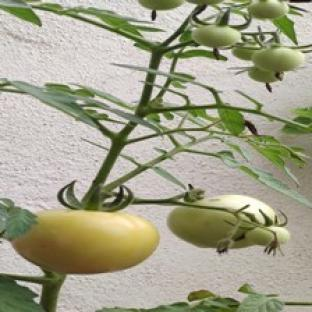Tomato: (12, 211, 158, 274), (168, 195, 277, 247), (253, 45, 305, 72), (193, 26, 240, 48), (246, 226, 289, 246), (232, 42, 259, 61), (248, 67, 279, 83)
